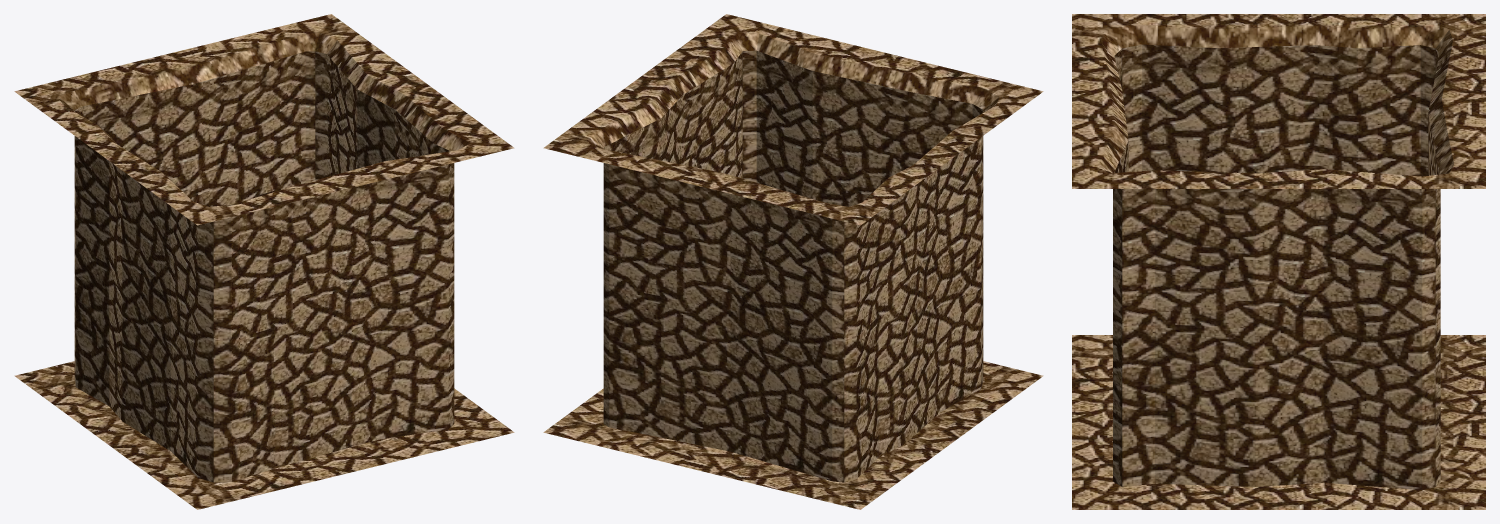
Rendered from Grid_Space_Dirt_01.DAE.
The picture shows the model from 3 angles, left to right: view 1: azimuth 30°, elevation 25°; view 2: azimuth 150°, elevation 25°; view 3: azimuth 270°, elevation 25°; orthographic projection. The views are drawn at different scales.
Parts seen in each view (by area): view 1: Box001; view 2: Box001; view 3: Box001.
Boxes of the visible parts, x1,y1,x2,y2 form: Box001: [14, 14, 514, 509]; Box001: [543, 14, 1043, 509]; Box001: [1072, 14, 1485, 509].
Size of the model in its own units: 39.37 by 33.71 by 39.37.
